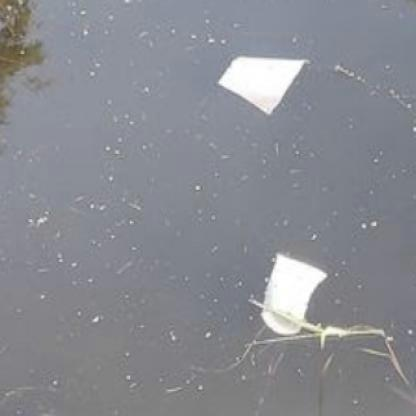Trash: (252, 252, 335, 336), (212, 56, 312, 114)
